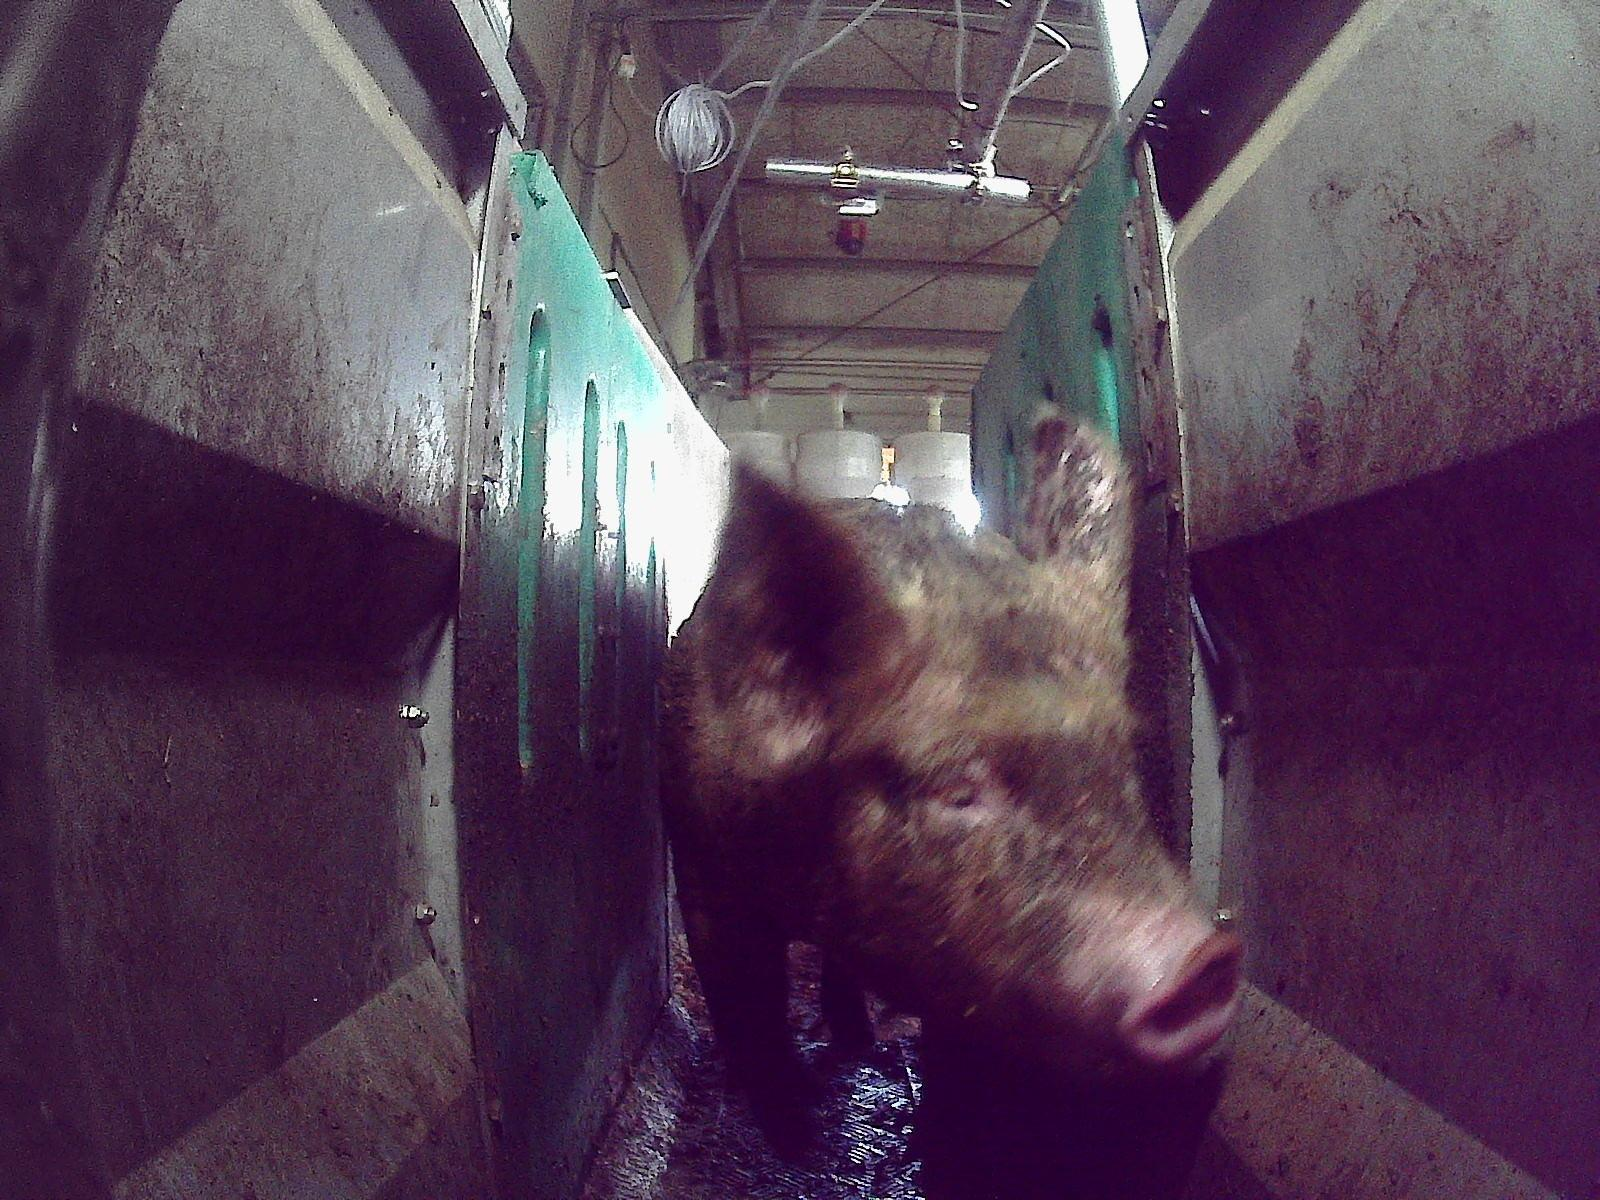Face: (789, 523, 1246, 1092)
